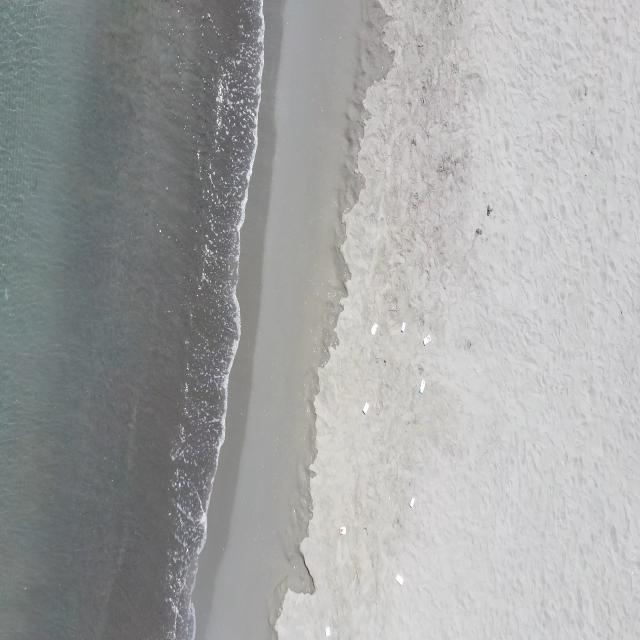retort-pouch: (395, 572, 404, 588), (422, 333, 432, 346), (362, 401, 371, 415), (370, 322, 379, 336), (419, 378, 426, 394), (408, 496, 416, 509), (323, 627, 332, 637), (339, 526, 347, 536), (401, 321, 406, 334)
